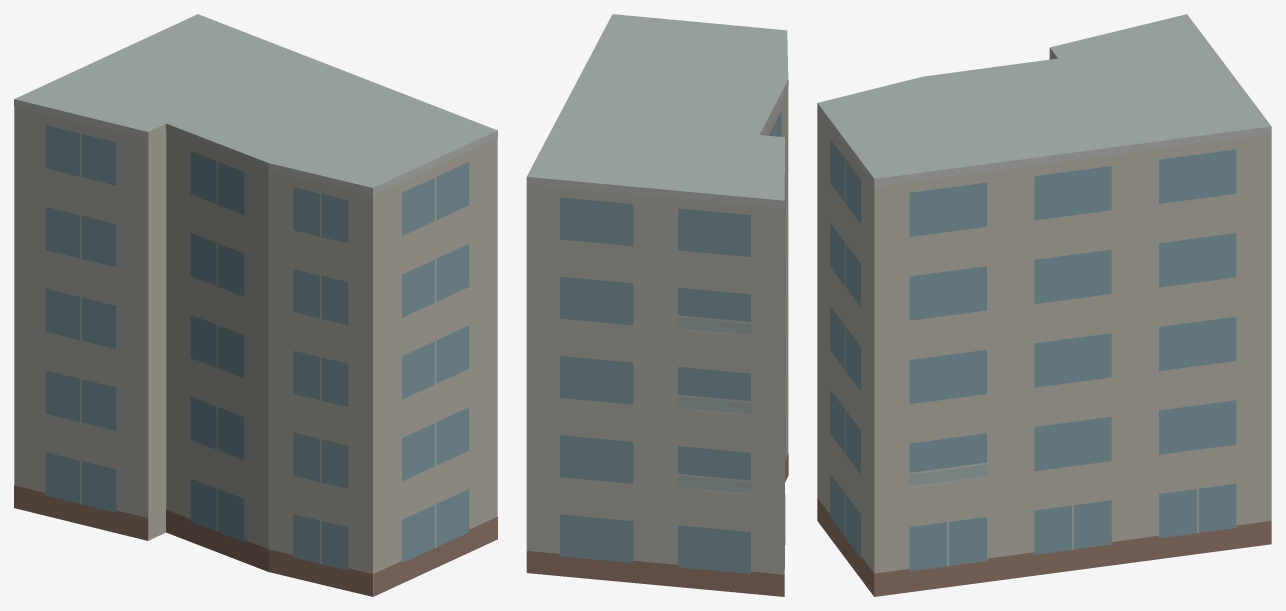
File: survey-upis-32890319.glb
The picture shows the model from 3 angles, left to right: view 1: azimuth 30°, elevation 25°; view 2: azimuth 150°, elevation 25°; view 3: azimuth 270°, elevation 25°; orthographic projection. The views are drawn at different scales.
Parts seen in each view (by area): view 1: survey-upis-32890319.tmp; view 2: survey-upis-32890319.tmp; view 3: survey-upis-32890319.tmp.
Boxes of the visible parts, box(x1,y1,x2,y2) form: survey-upis-32890319.tmp: box(14, 14, 497, 596); survey-upis-32890319.tmp: box(526, 14, 788, 596); survey-upis-32890319.tmp: box(817, 14, 1271, 596).
Size of the model in its own units: 11.44 by 13.5 by 13.3.
